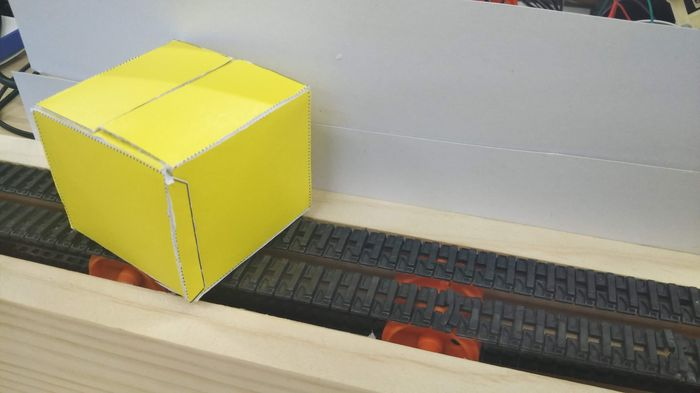box4: (28, 36, 316, 303)
